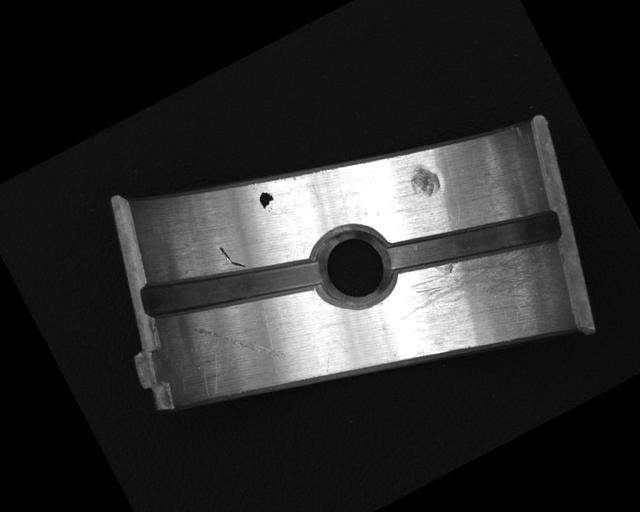blot: (255, 187, 279, 215)
bruise: (402, 159, 446, 204)
gap: (135, 210, 325, 360), (378, 170, 566, 314)
hole: (302, 215, 407, 321)
nick: (189, 294, 287, 392), (217, 239, 246, 275)
scratch: (380, 210, 580, 369)
